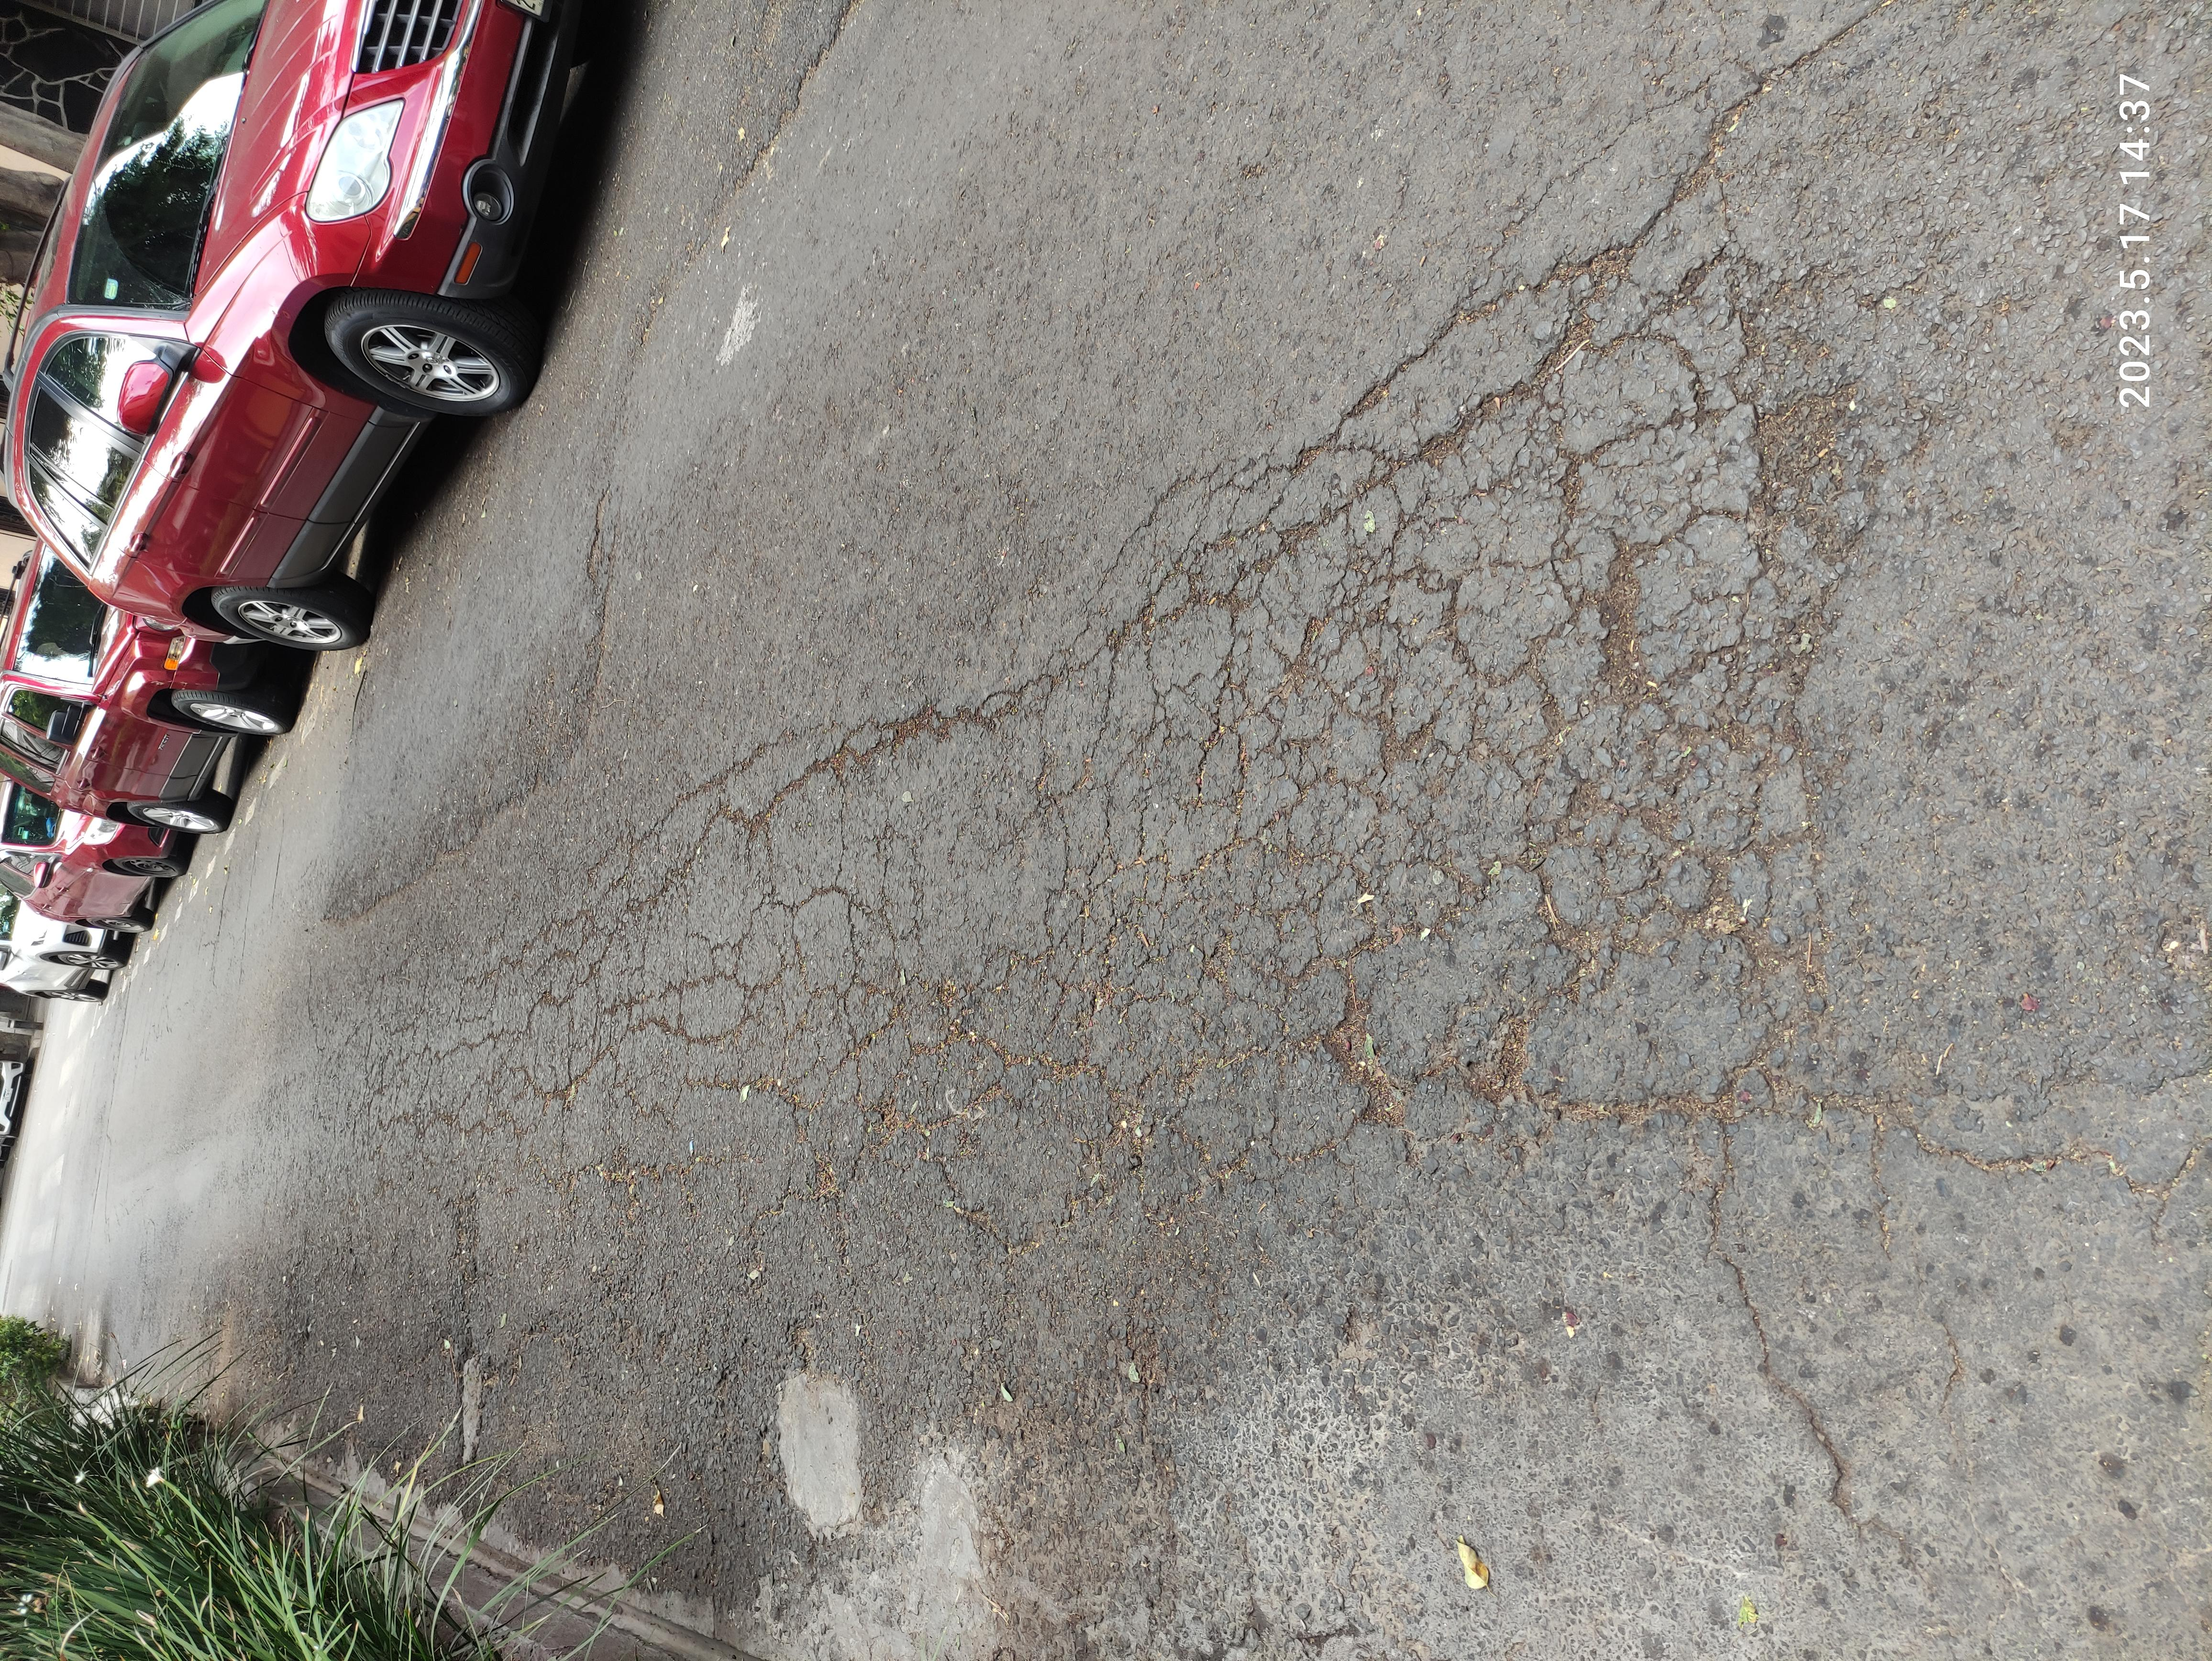alligator-crack: (490, 174, 1800, 1338)
